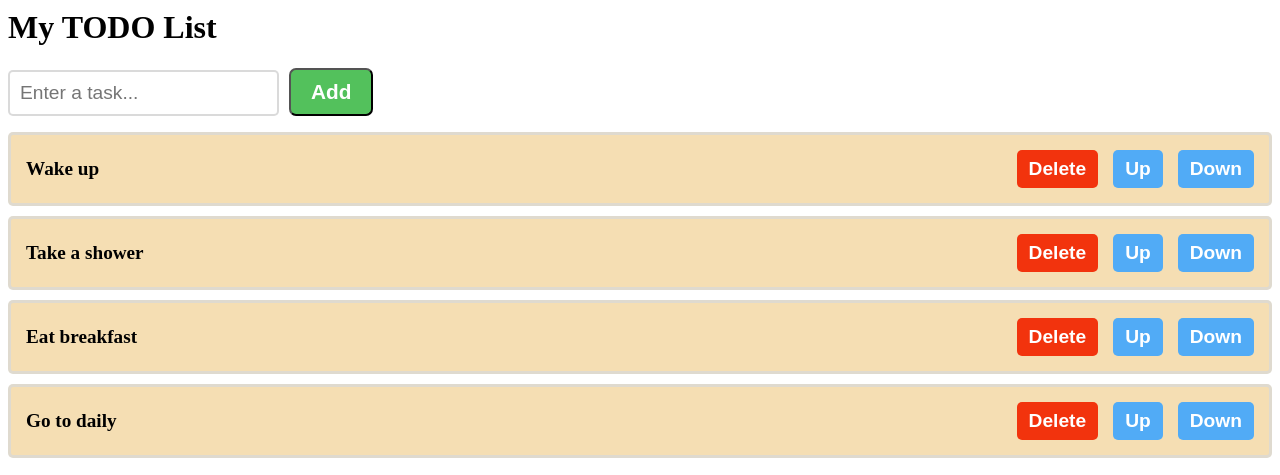
Test: Todo List component › State manipulation tests › should be able to remove a todo task using the delete button
Click the button with test id "delete-button" in the row of "Wake up" at (1058, 169), box [1017, 150, 1099, 188]
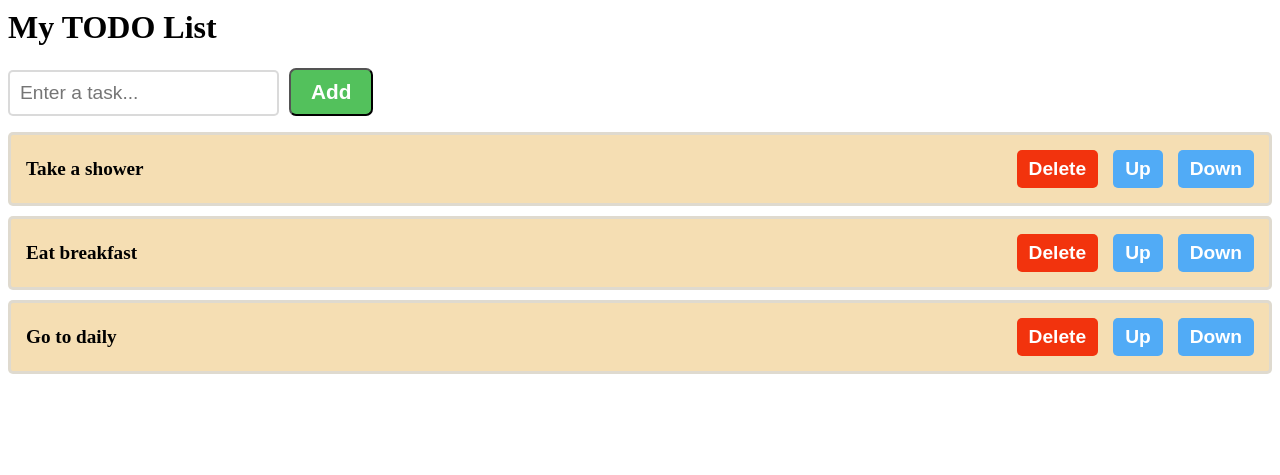
Expected: the number of list items is 3, [8, 132, 1272, 206]; [8, 216, 1272, 290]; [8, 300, 1272, 374]
Expected: the text "Take a shower" is shown, [26, 158, 144, 179]
